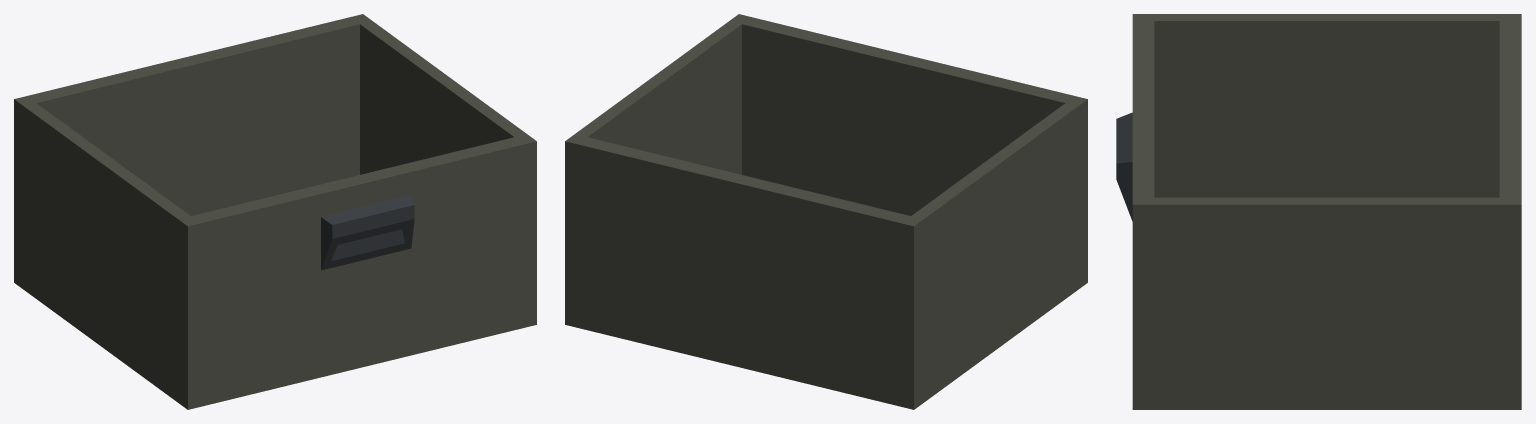
Rendered from SM_Prop_Lockers_Drawer_03.fbx.
The picture shows the model from 3 angles, left to right: view 1: azimuth 30°, elevation 25°; view 2: azimuth 150°, elevation 25°; view 3: azimuth 270°, elevation 25°; orthographic projection. The views are drawn at different scales.
Parts seen in each view (by area): view 1: SM_Prop_Lockers_Drawer_03; view 2: SM_Prop_Lockers_Drawer_03; view 3: SM_Prop_Lockers_Drawer_03.
Part boxes in pixels (x1,y1,x2,y2): SM_Prop_Lockers_Drawer_03: [14, 14, 536, 409]; SM_Prop_Lockers_Drawer_03: [565, 14, 1087, 409]; SM_Prop_Lockers_Drawer_03: [1116, 14, 1521, 409].
Size of the model in its own units: 60.28 by 30.29 by 54.17.
